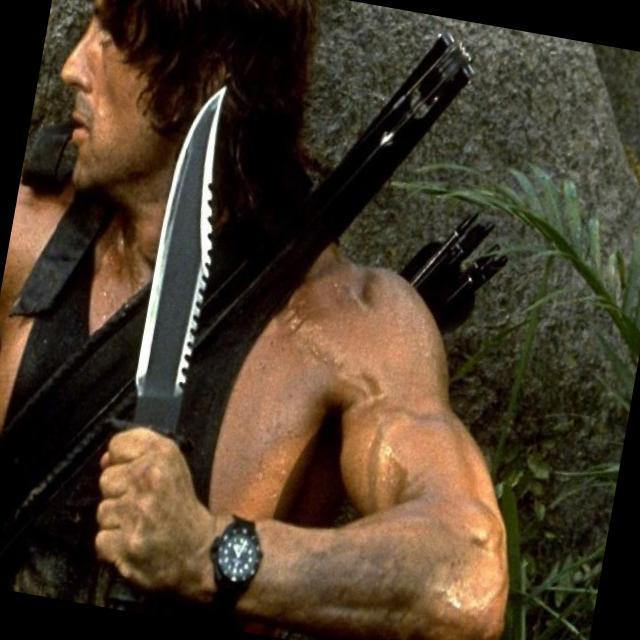Knife: (76, 64, 254, 577)
